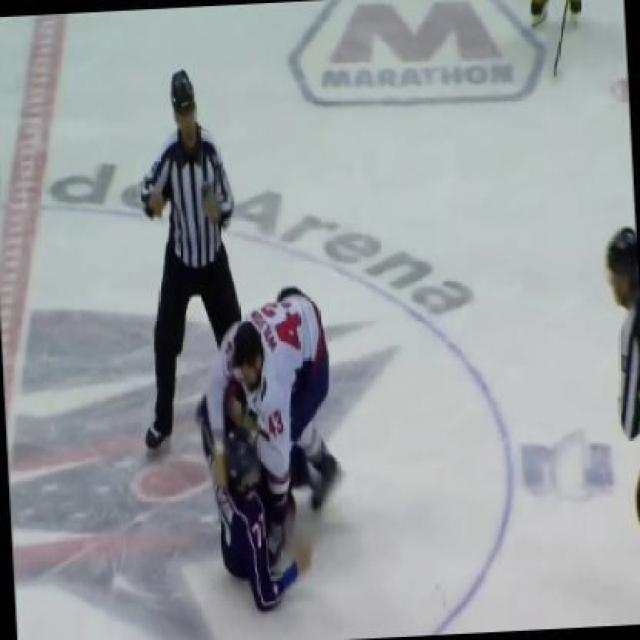fight: (194, 288, 346, 618)
non-fight: (109, 60, 246, 465), (572, 202, 638, 629)
